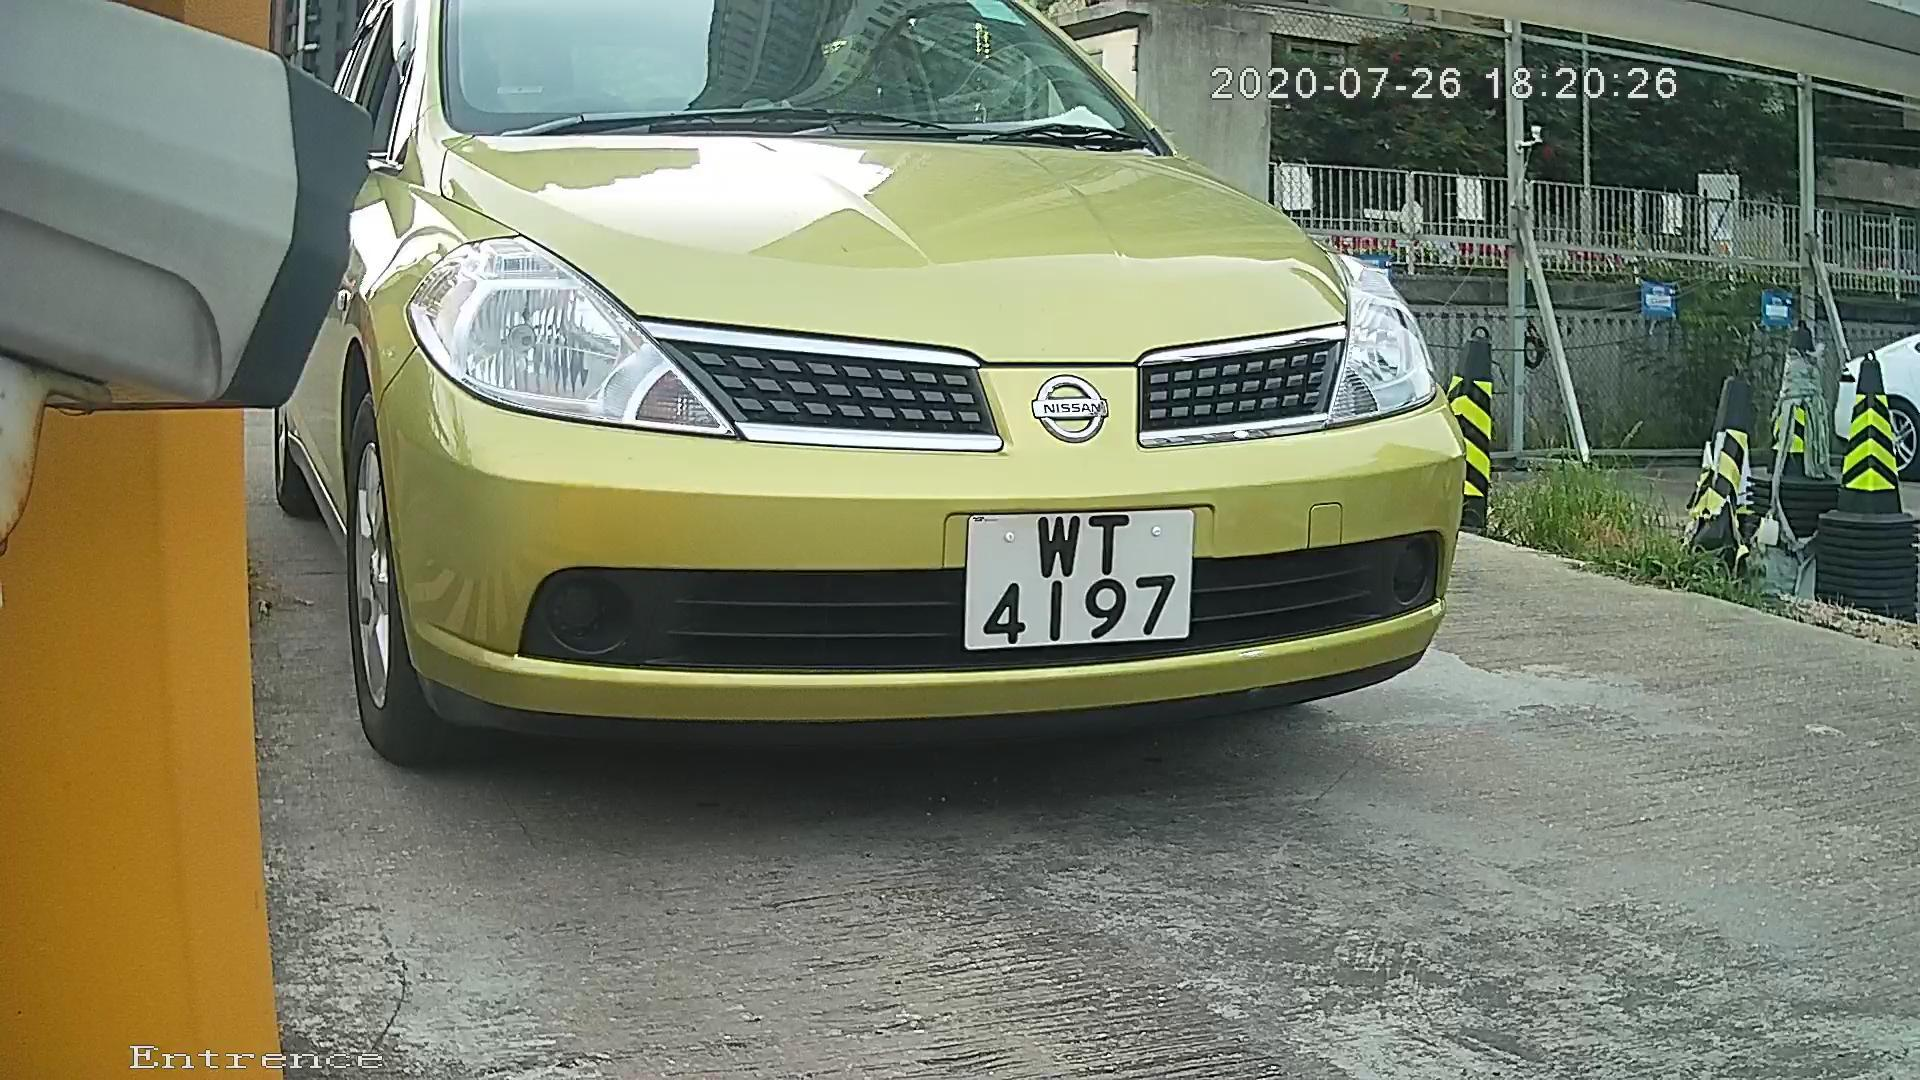License Plate: (935, 492, 1226, 666)
